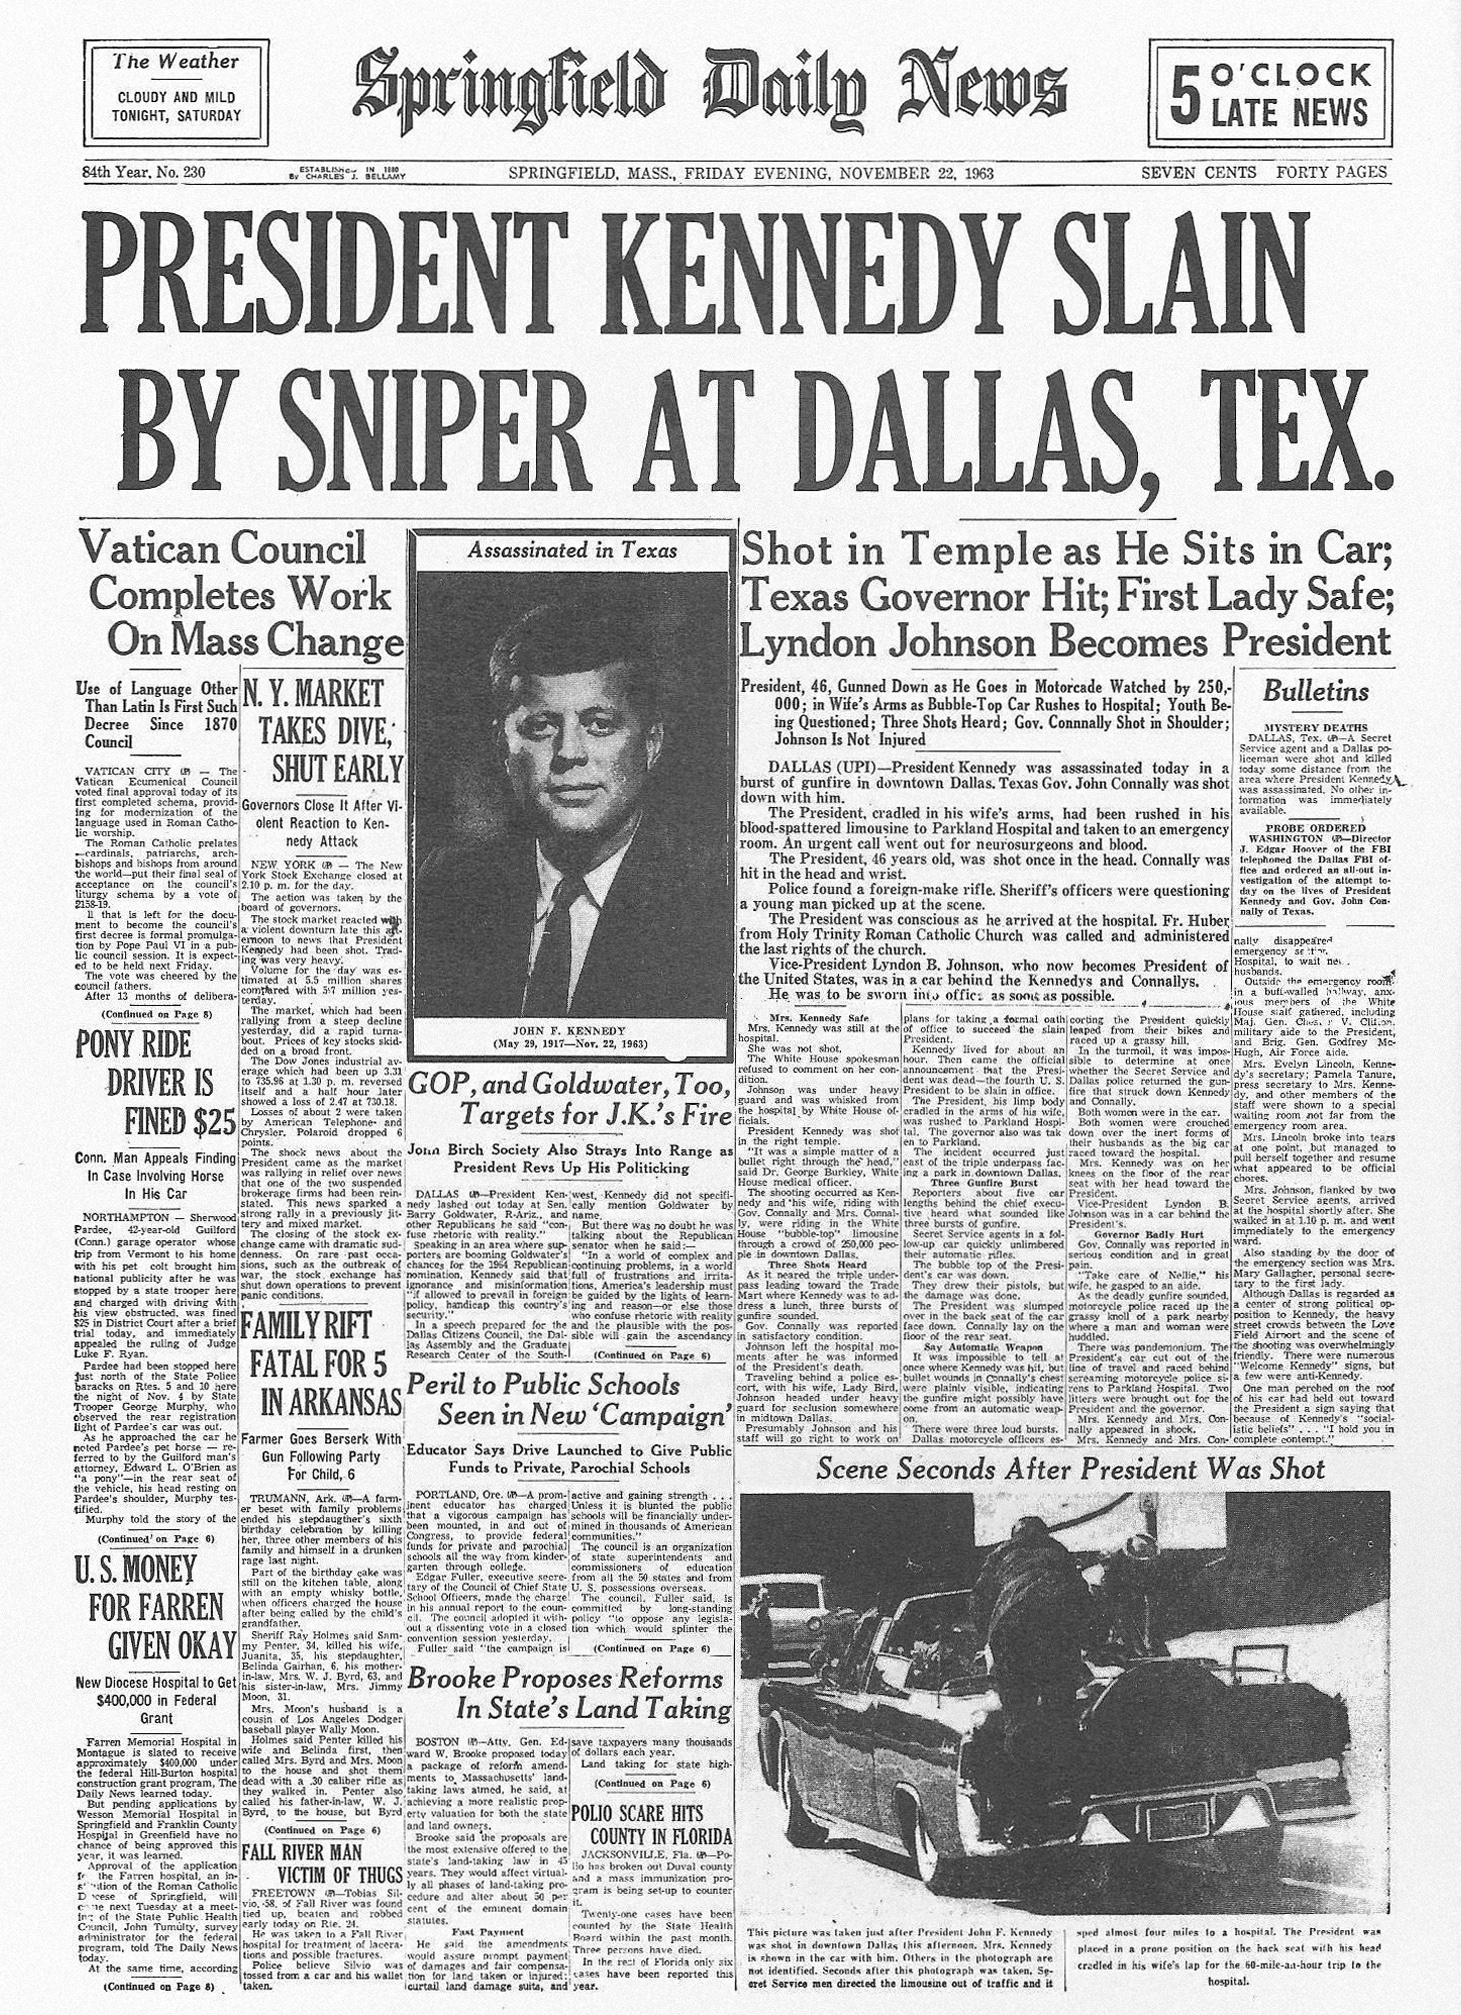news_paper: (20, 6, 1445, 2015)
